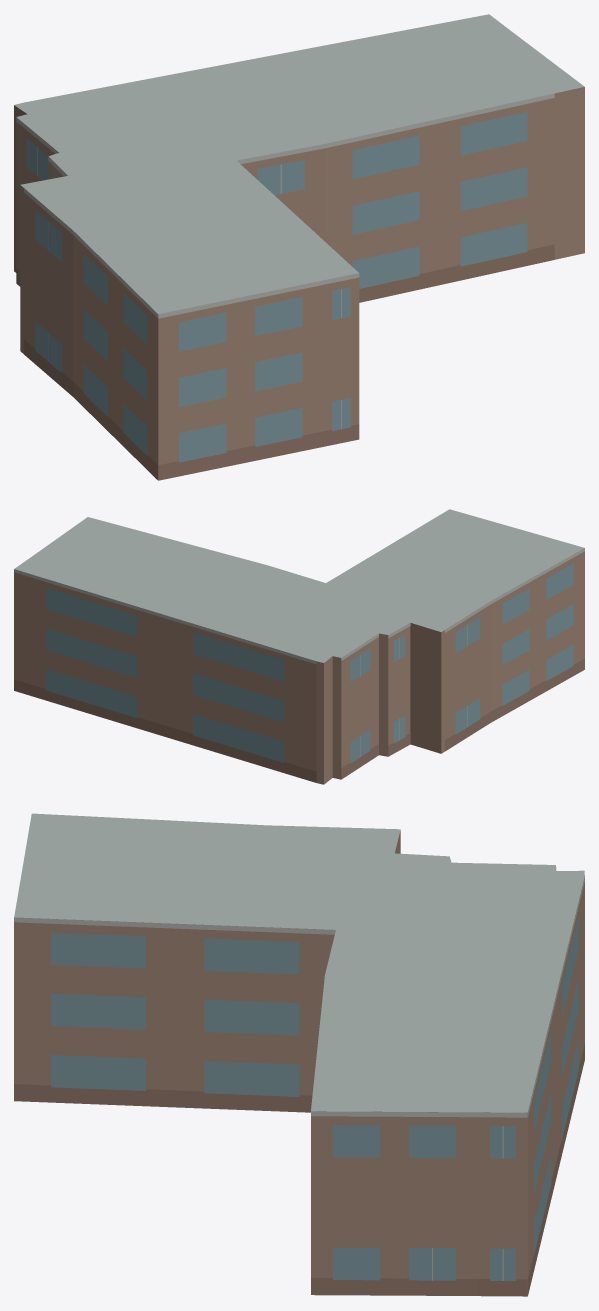
The model's file is survey-upis-32662552.glb.
The picture shows the model from 3 angles, top to bottom: view 1: azimuth 30°, elevation 25°; view 2: azimuth 150°, elevation 25°; view 3: azimuth 270°, elevation 25°; orthographic projection. The views are drawn at different scales.
Visible parts, largest first — view 1: survey-upis-32662552.tmp; view 2: survey-upis-32662552.tmp; view 3: survey-upis-32662552.tmp.
Part boxes in pixels (x1,y1,x2,y2): survey-upis-32662552.tmp: (14, 14, 584, 480); survey-upis-32662552.tmp: (14, 509, 584, 784); survey-upis-32662552.tmp: (14, 813, 584, 1296).
Bounding box in the file's own units: 31.98 × 9.15 × 25.78.
